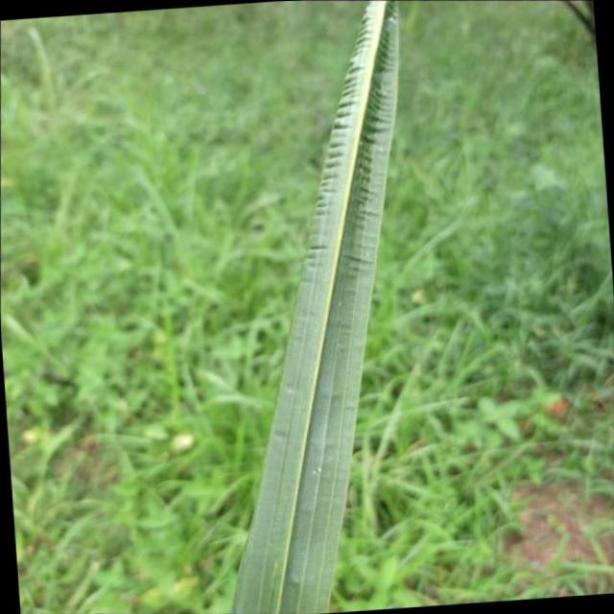Boron: (230, 0, 403, 614)
